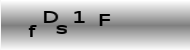1: (72, 10, 86, 25)
D: (42, 10, 59, 24)
F: (97, 13, 112, 27)
f: (26, 24, 38, 39)
s: (55, 24, 68, 35)
